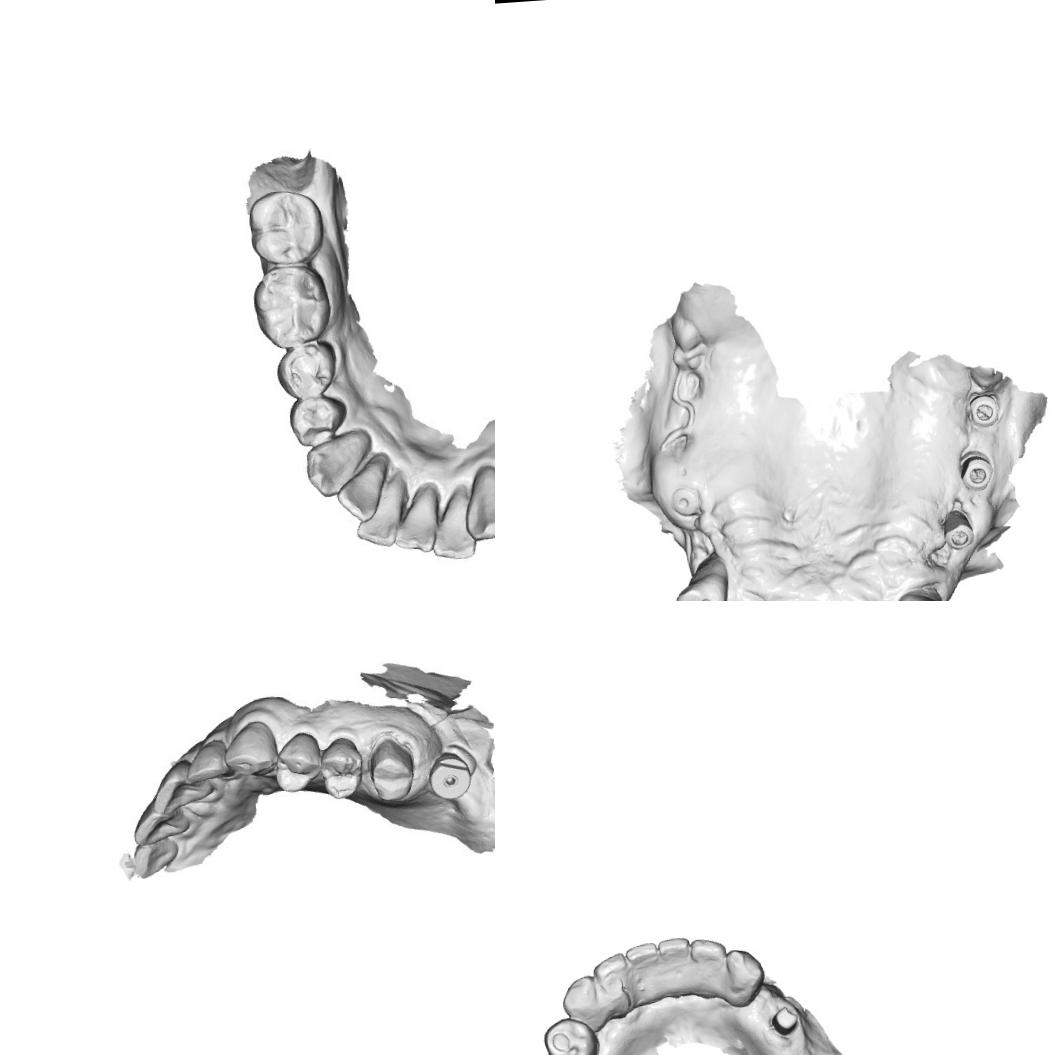abutment: (768, 1004, 801, 1038)
canine: (303, 427, 367, 498), (220, 718, 279, 778), (559, 972, 609, 1034), (459, 458, 495, 543), (722, 946, 766, 1008), (671, 570, 731, 601)
crown: (362, 730, 418, 806)
implant: (424, 749, 472, 801), (940, 506, 976, 552), (957, 452, 996, 492), (966, 391, 1000, 428)
incisor: (354, 464, 404, 541), (150, 758, 215, 814), (392, 477, 440, 550), (340, 451, 388, 521), (432, 486, 476, 555), (590, 950, 632, 1021), (131, 802, 191, 846), (689, 936, 729, 1000), (623, 941, 662, 1006), (183, 736, 235, 784), (656, 935, 693, 999)
molar: (244, 188, 322, 262), (256, 260, 324, 341)
premolar: (274, 340, 333, 401), (272, 729, 324, 793), (317, 734, 365, 801), (288, 393, 344, 440), (540, 1014, 601, 1055)
